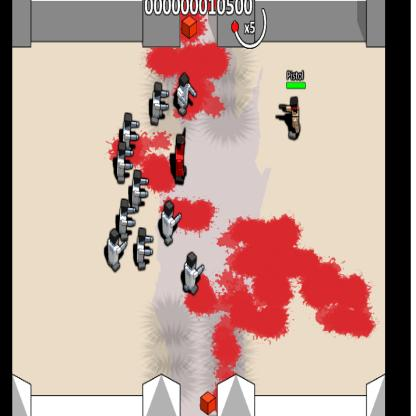agent: (285, 95, 301, 141)
boss: (174, 130, 185, 186)
jombie: (182, 252, 199, 298), (175, 72, 192, 114), (160, 200, 175, 244), (151, 80, 165, 124), (136, 228, 149, 272), (107, 229, 120, 272), (133, 170, 146, 209), (117, 143, 129, 183), (121, 198, 132, 240), (121, 110, 134, 143)
